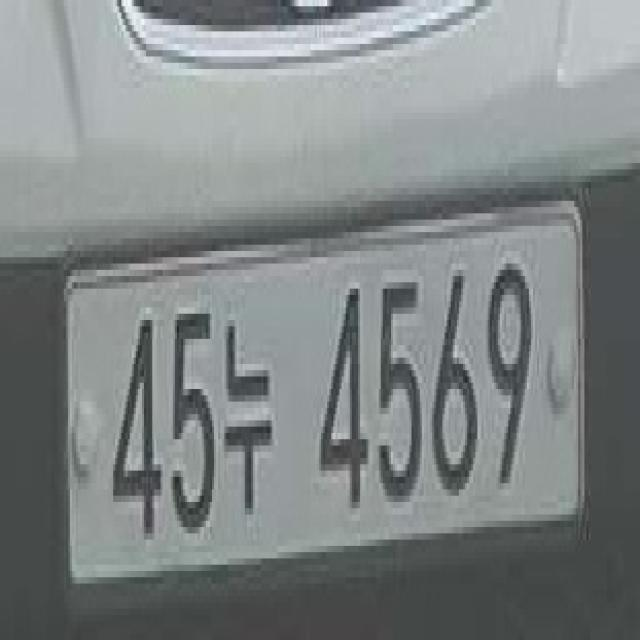plat: (61, 195, 588, 579)
